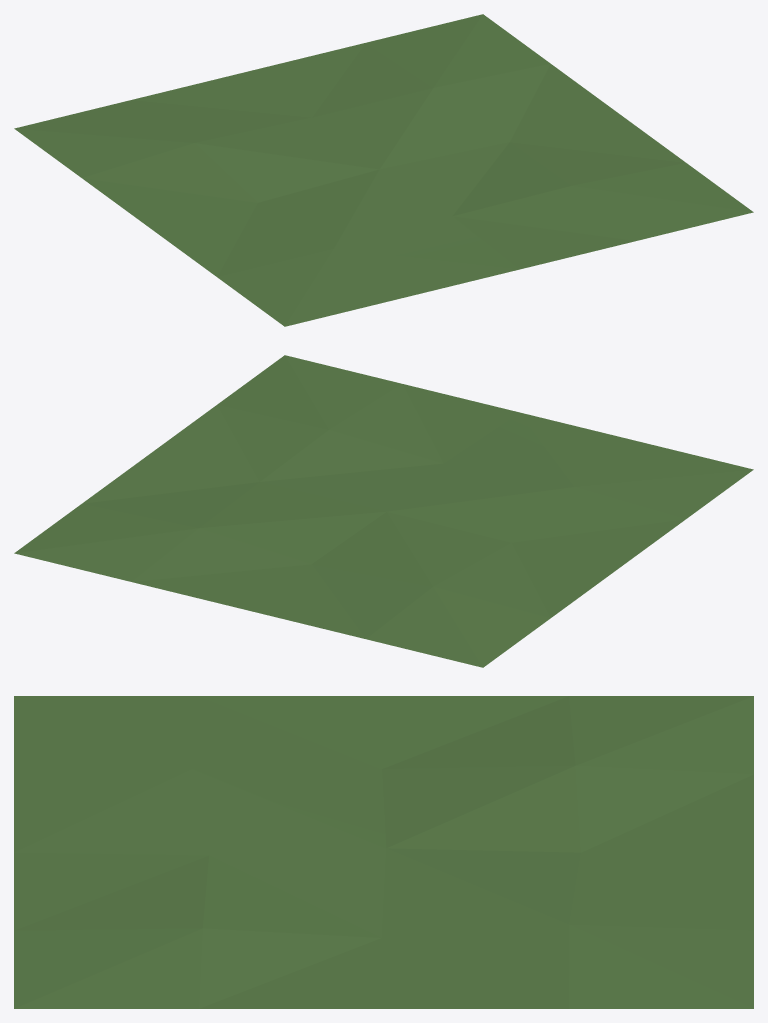
The model's file is grass.glb.
3 views of the same model, one above another, from view 1: azimuth 30°, elevation 25°; view 2: azimuth 150°, elevation 25°; view 3: azimuth 270°, elevation 25° (orthographic). The views are drawn at different scales.
Parts seen in each view (by area): view 1: SM_Env_Grass_01; view 2: SM_Env_Grass_01; view 3: SM_Env_Grass_01.
Part boxes in pixels (<box>): SM_Env_Grass_01: <box>14,14,753,326</box>; SM_Env_Grass_01: <box>14,355,753,667</box>; SM_Env_Grass_01: <box>14,696,753,1008</box>.
Size of the model in its own units: 5 by 0.0695 by 5.
1 material, 1 textured.
